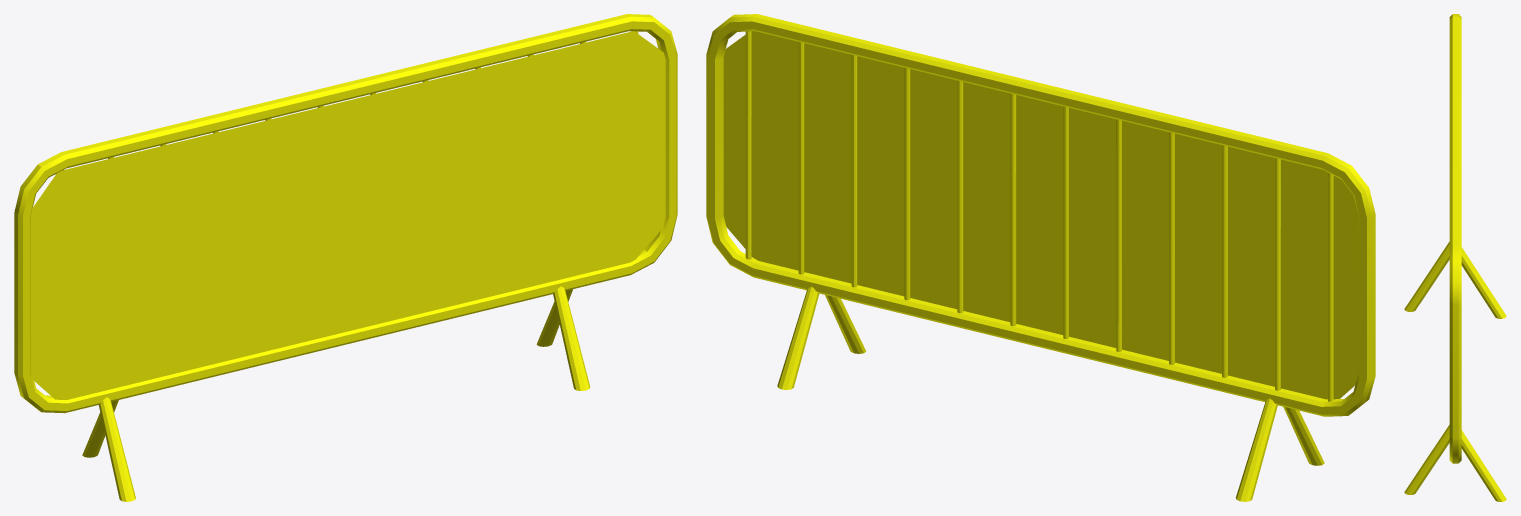
File: Valla2_Alex_Basterra.fbx
The picture shows the model from 3 angles, left to right: view 1: azimuth 30°, elevation 25°; view 2: azimuth 150°, elevation 25°; view 3: azimuth 270°, elevation 25°; orthographic projection. The views are drawn at different scales.
Parts seen in each view (by area): view 1: pPlane2, pCube1, pCylinder1, pCylinder3; view 2: pPlane2, pCube1, pTorus16, pTorus17, pTorus19, pTorus20, pTorus18, pCylinder2, pTorus15, pCylinder4, pTorus23, pTorus24 (+6 smaller); view 3: pCube1, pCylinder2, pCylinder4, pCylinder1, pCylinder3.
Boxes of the visible parts, box(x1,y1,x2,y2) form: pPlane2: box(31, 31, 665, 399); pCube1: box(14, 14, 677, 413); pCylinder1: box(98, 397, 135, 501); pCylinder3: box(553, 286, 590, 390); pPlane2: box(723, 31, 1358, 399); pCube1: box(706, 14, 1375, 416); pTorus16: box(798, 42, 804, 274); pTorus17: box(851, 54, 857, 287); pTorus19: box(957, 80, 963, 313); pTorus20: box(1010, 93, 1016, 326); pTorus18: box(904, 67, 910, 300); pCylinder2: box(1236, 398, 1277, 501); pTorus15: box(745, 31, 751, 259); pCylinder4: box(777, 286, 819, 389); pTorus23: box(1169, 132, 1174, 364); pTorus24: box(1222, 145, 1227, 377); pCube1: box(1449, 14, 1461, 463); pCylinder2: box(1461, 247, 1506, 318); pCylinder4: box(1461, 430, 1506, 501); pCylinder1: box(1404, 241, 1449, 311); pCylinder3: box(1404, 425, 1449, 494).
Bounding box in the file's own units: 202 × 98 × 32.96.
